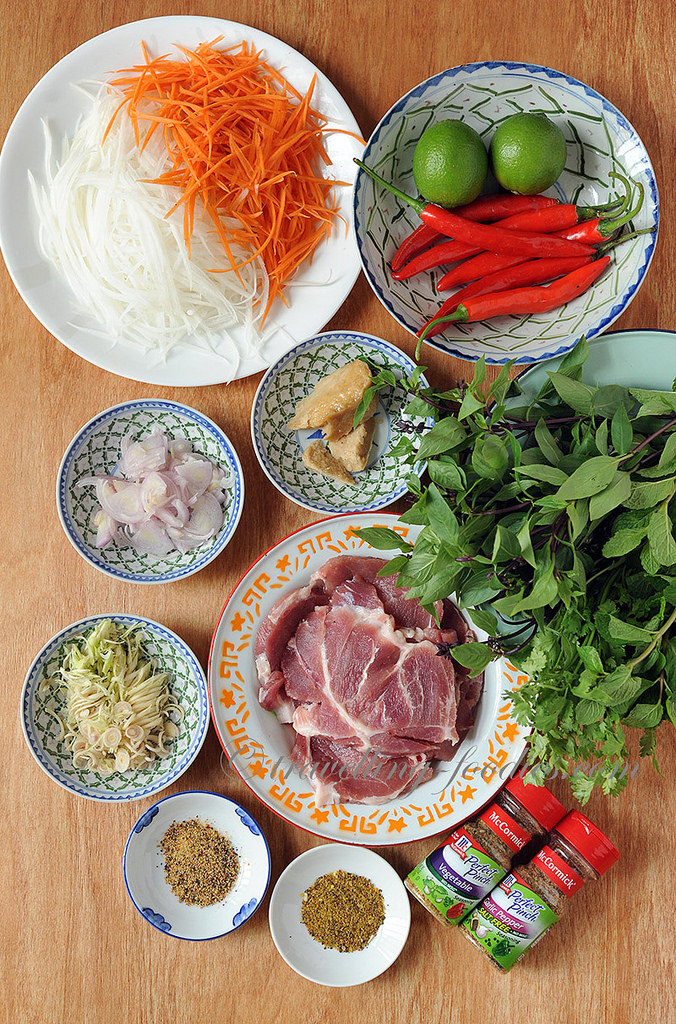chopped lettuce: (463, 398, 676, 715)
